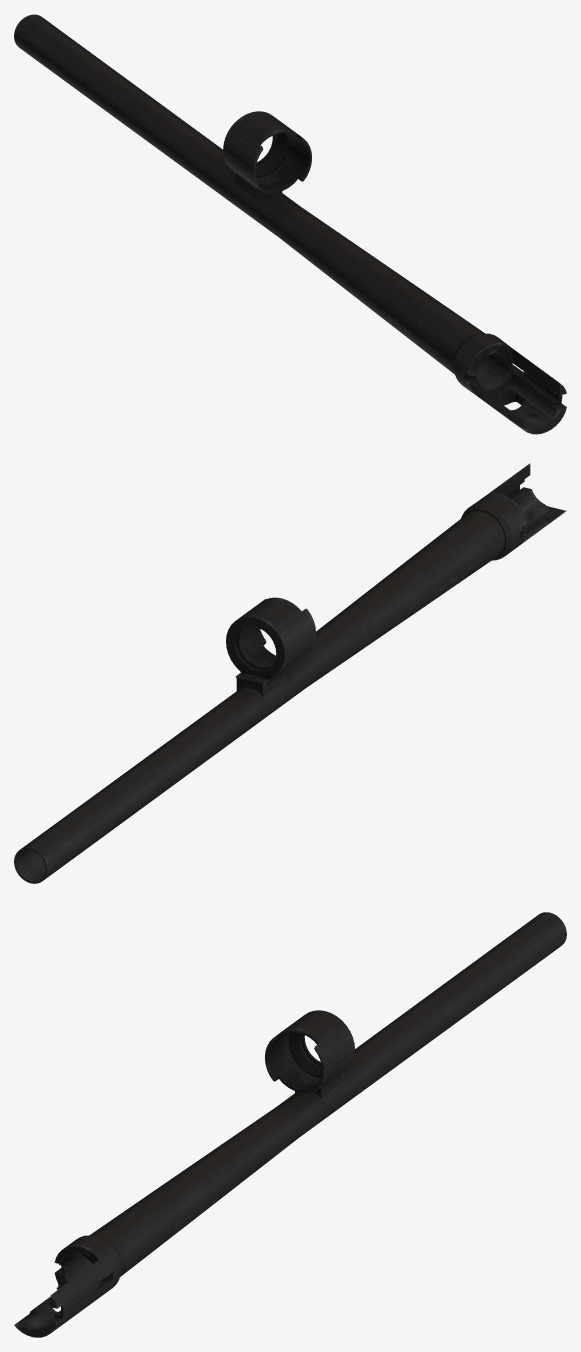
The picture shows the model from 3 angles, top to bottom: view 1: azimuth 30°, elevation 25°; view 2: azimuth 150°, elevation 25°; view 3: azimuth 330°, elevation 25°; orthographic projection.
Parts seen in each view (by area): view 1: TW_6076c1b9f2cb2e02a42acedc_PZ_Import; view 2: TW_6076c1b9f2cb2e02a42acedc_PZ_Import; view 3: TW_6076c1b9f2cb2e02a42acedc_PZ_Import.
Boxes of the visible parts, left/top/right/bottom form: TW_6076c1b9f2cb2e02a42acedc_PZ_Import: left=14, top=14, right=566, bottom=434; TW_6076c1b9f2cb2e02a42acedc_PZ_Import: left=14, top=463, right=566, bottom=883; TW_6076c1b9f2cb2e02a42acedc_PZ_Import: left=14, top=912, right=566, bottom=1337.
Bounding box in the file's own units: 0.0215 × 0.3248 × 0.0385.
Materials: 1 (1 with a texture image).
